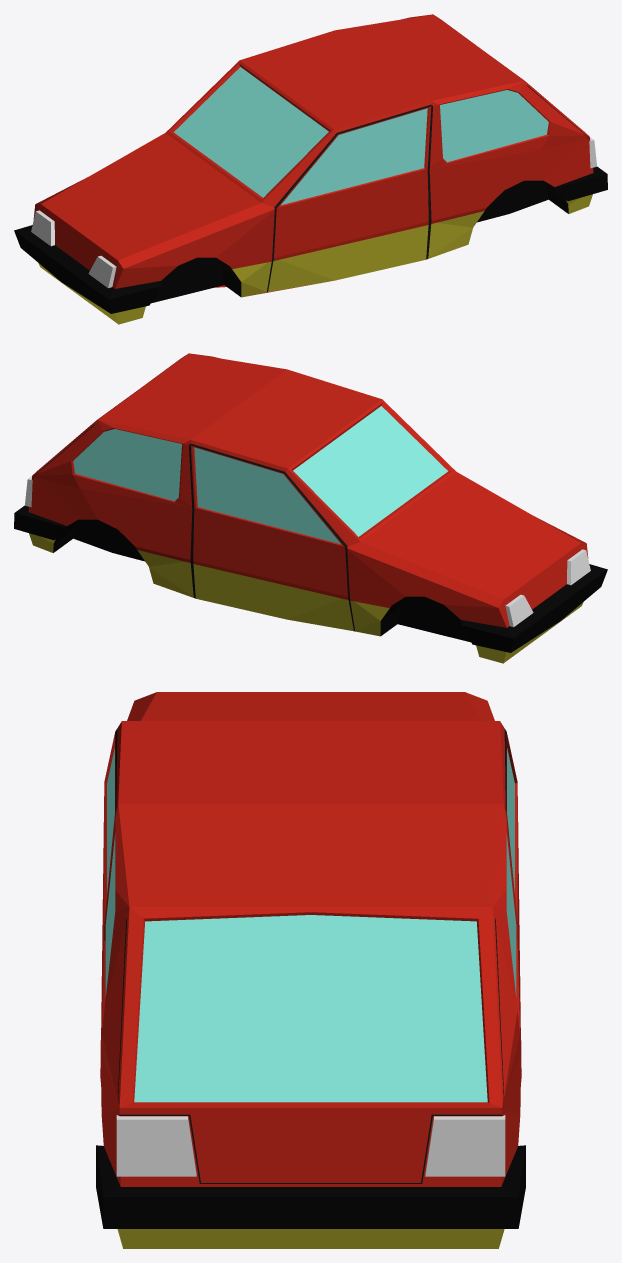
The model's file is car1_v3.fbx.
The picture shows the model from 3 angles, top to bottom: view 1: azimuth 30°, elevation 25°; view 2: azimuth 150°, elevation 25°; view 3: azimuth 270°, elevation 25°; orthographic projection. The views are drawn at different scales.
Parts seen in each view (by area): view 1: Car; view 2: Car; view 3: Car.
Part boxes in pixels (box(x1,y1,x2,y2)): Car: box(14, 14, 607, 324); Car: box(14, 353, 607, 663); Car: box(96, 692, 525, 1248).
Size of the model in its own units: 889 by 269 by 334.
